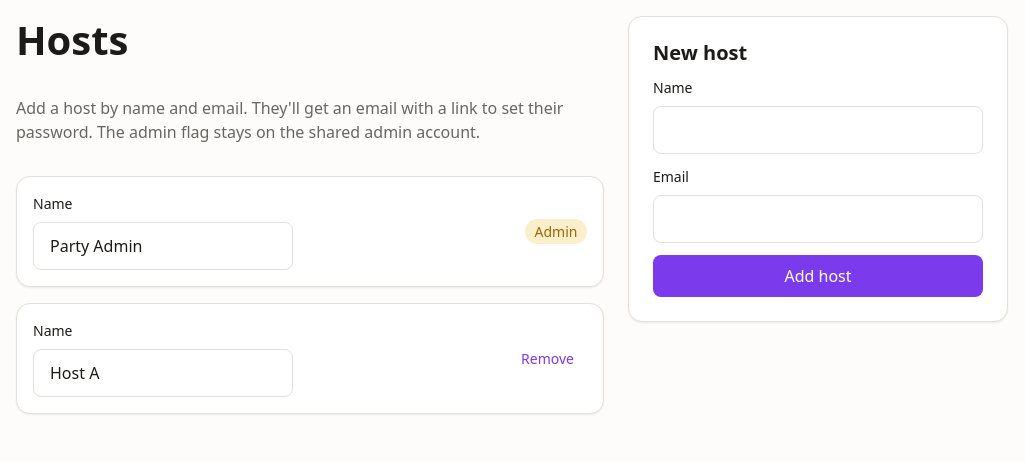
Test: Hosts › does not add the host when the invite email fails to send
In the field labelled "Name" below "New host": (818, 130) x1=653 y1=106 x2=983 y2=154, type "Kit"
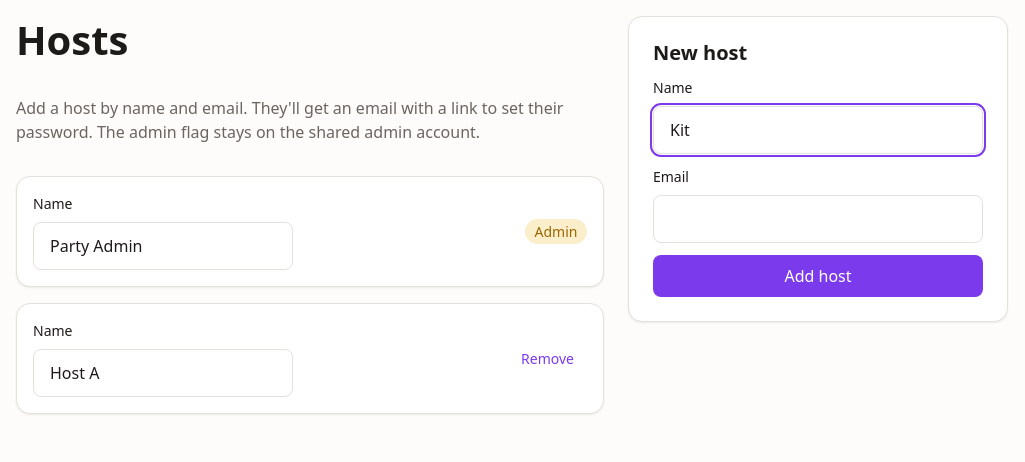
In the field labelled "Email": (818, 219) x1=653 y1=195 x2=983 y2=243, type "kit@example.com"
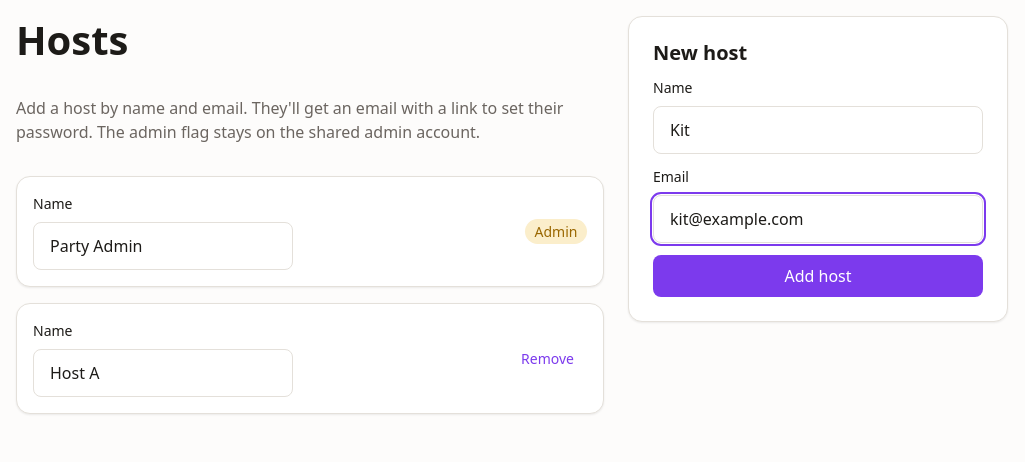
Click the button "Add host": click(818, 276) x1=653 y1=255 x2=983 y2=297
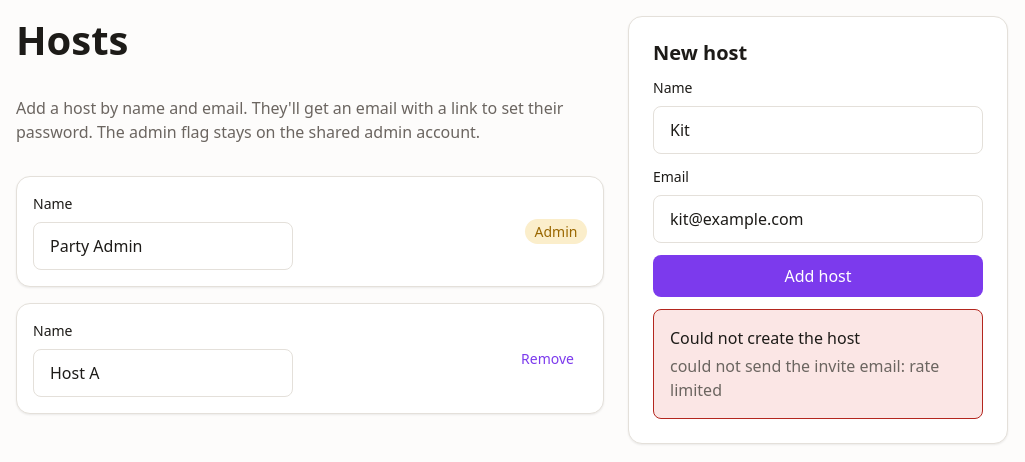
Expected: the number of fields labelled "Name" is 3, x1=33 y1=222 x2=293 y2=270; x1=33 y1=349 x2=293 y2=397; x1=653 y1=106 x2=983 y2=154
Expected: the text "could not send the invite email: rate limited" is shown, x1=670 y1=354 x2=966 y2=402
